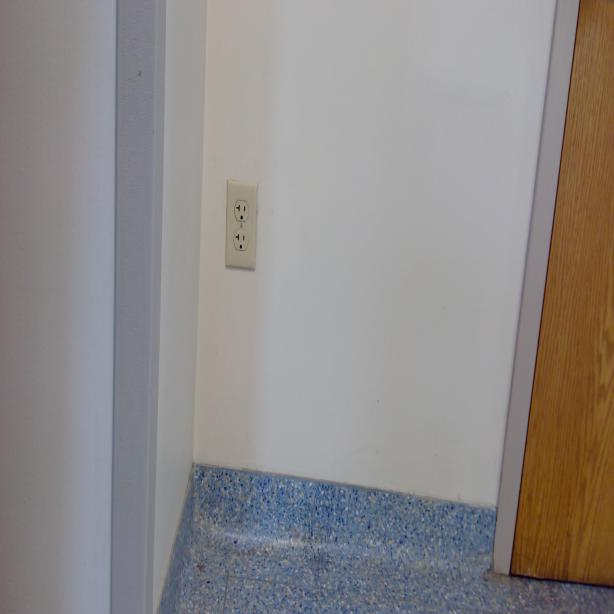typeb: (232, 228, 249, 254), (234, 197, 250, 222)
